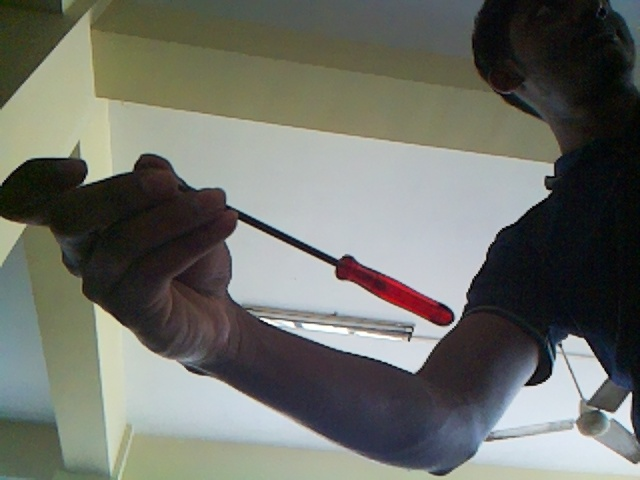redskrew: (231, 202, 461, 340)
